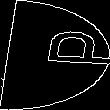P_W: (5, 34, 105, 76)
